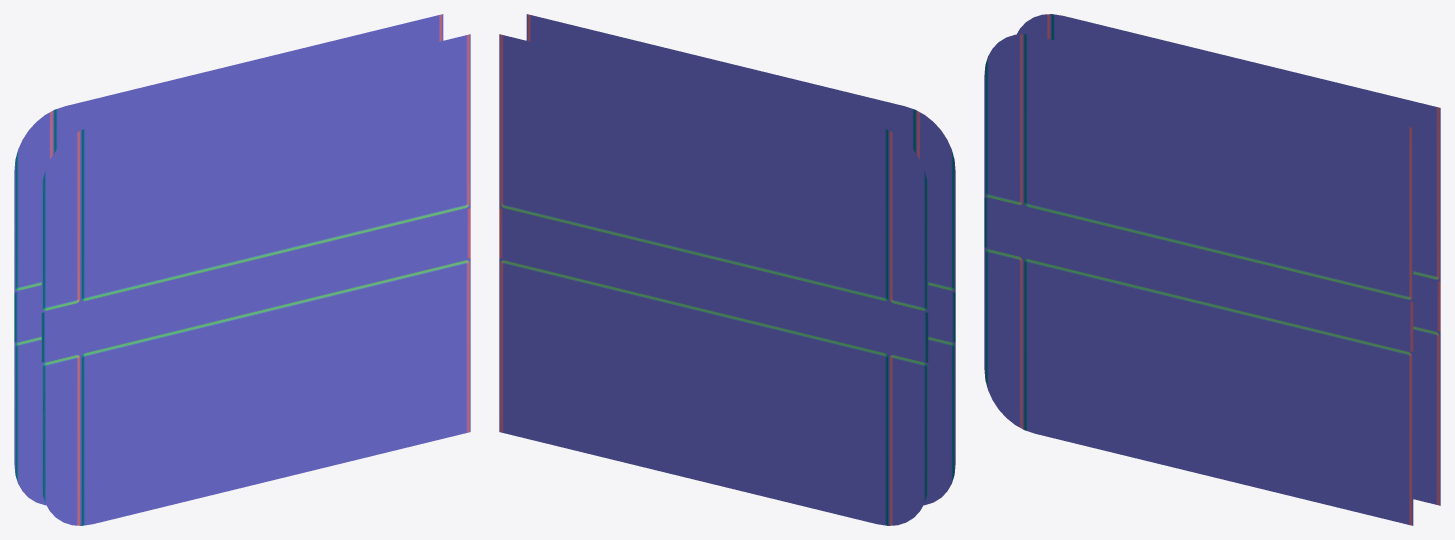
File: Door_01.FBX
3 renders of one model, left to right at view 1: azimuth 30°, elevation 25°; view 2: azimuth 150°, elevation 25°; view 3: azimuth 330°, elevation 25°, orthographic.
Visible parts, largest first — view 1: Door_01; view 2: Door_01; view 3: Door_01.
Part boxes in pixels (x1,y1,x2,y2): Door_01: (14,14,470,525); Door_01: (499,14,955,525); Door_01: (984,14,1440,525).
Size of the model in its own units: 4.51 by 4 by 0.5.
1 material, 1 textured.
